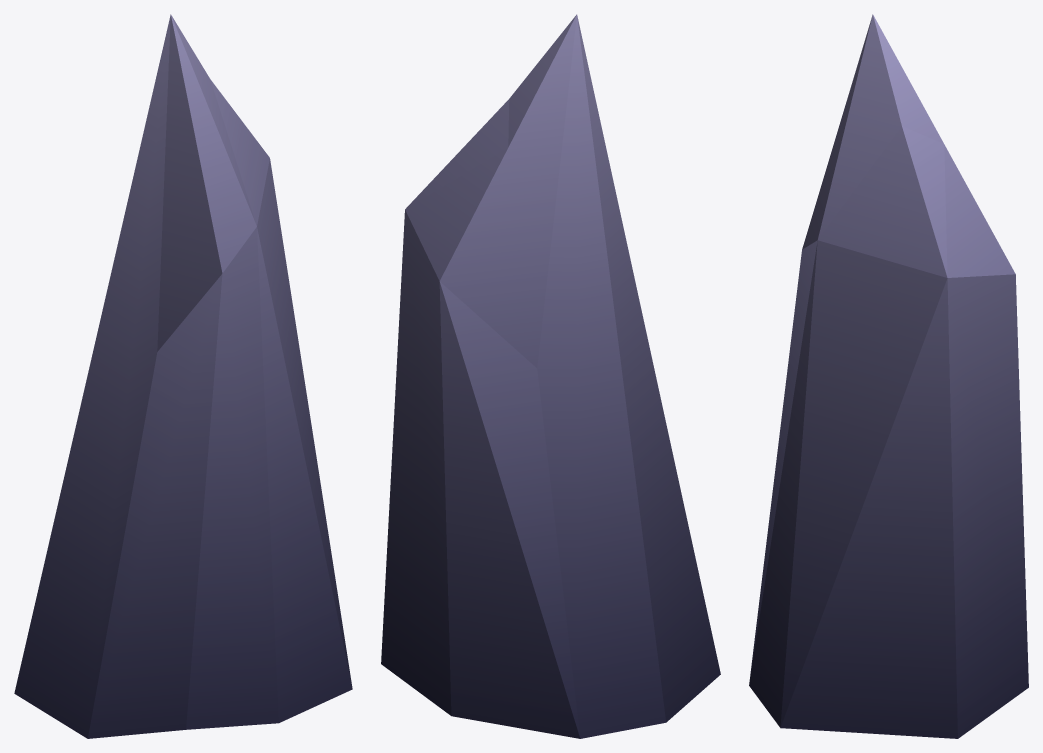
File: BigRock_Sanctuary_2.fbx
The picture shows the model from 3 angles, left to right: view 1: azimuth 30°, elevation 25°; view 2: azimuth 150°, elevation 25°; view 3: azimuth 270°, elevation 25°; orthographic projection. The views are drawn at different scales.
Parts seen in each view (by area): view 1: BigRock_2; view 2: BigRock_2; view 3: BigRock_2.
Part boxes in pixels (x1,y1,x2,y2): BigRock_2: (14,14,352,738); BigRock_2: (381,14,720,738); BigRock_2: (749,14,1028,738).
Size of the model in its own units: 4728 by 10821 by 4217.
Materials: 1 (1 with a texture image).
